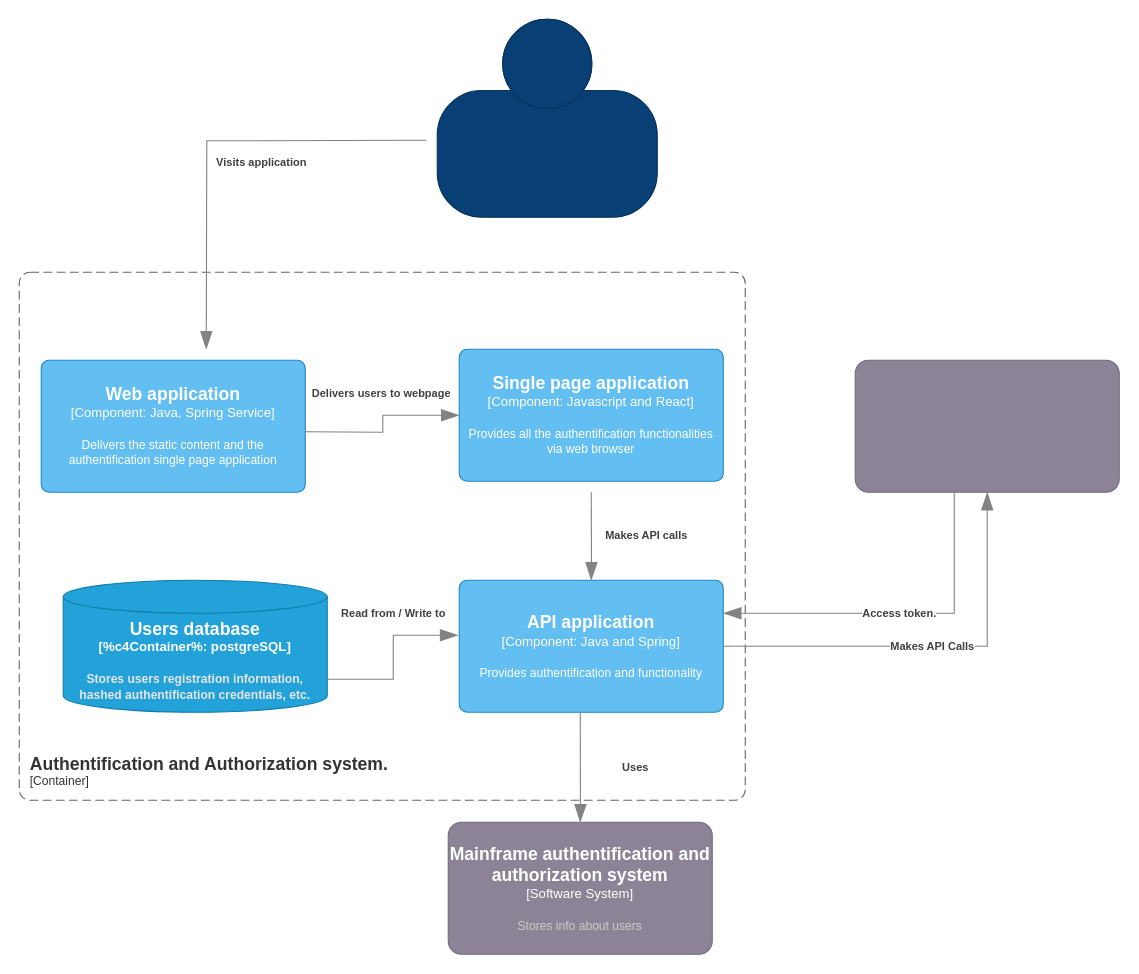
This 1139x974 diagram has some shape labels left out. Each missing label, with the centre of its shape:
"Google API [Software System] Signing in through google. Returns jwt token." goes at [986,425].
"User [Person] User of movie recomandation app." goes at [546,117].
